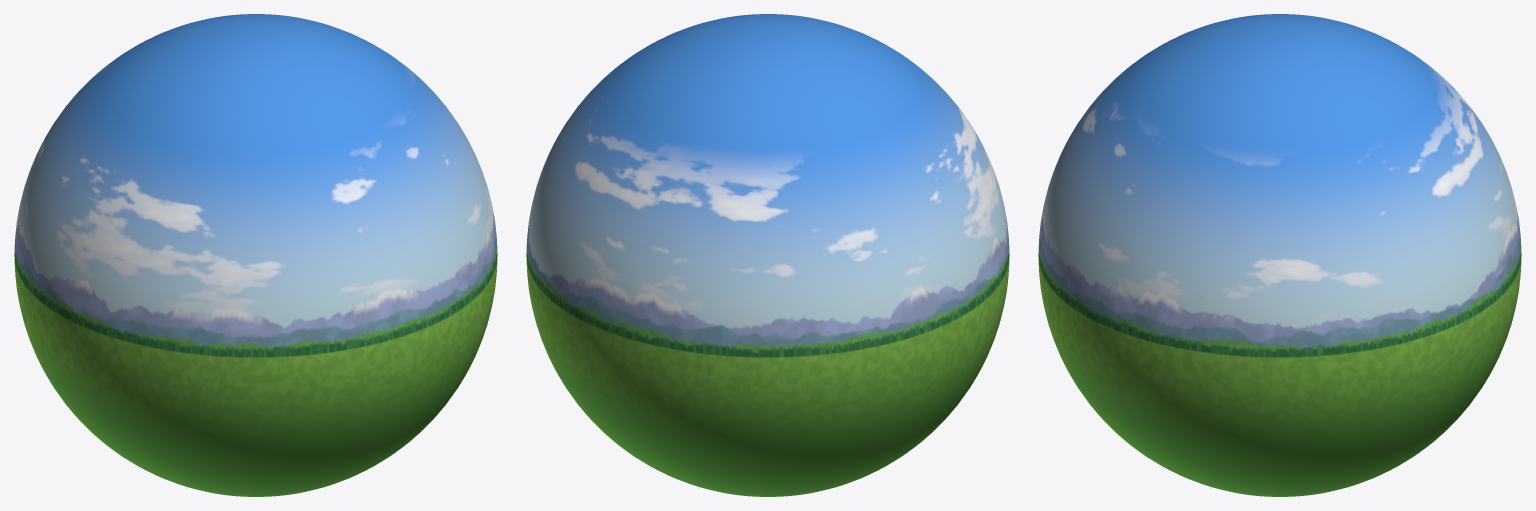
Rendered from ProductivityTown_Unity.fbx.
3 views of the same model, side by side, from view 1: azimuth 30°, elevation 25°; view 2: azimuth 150°, elevation 25°; view 3: azimuth 270°, elevation 25° (orthographic).
Parts seen in each view (by area): view 1: Env_Sphere; view 2: Env_Sphere; view 3: Env_Sphere.
Boxes of the visible parts, bbox=[...] form: Env_Sphere: bbox=[14, 14, 497, 496]; Env_Sphere: bbox=[526, 14, 1009, 496]; Env_Sphere: bbox=[1038, 14, 1521, 496].
Size of the model in its own units: 28 by 28 by 28.
54 materials, 1 textured.
